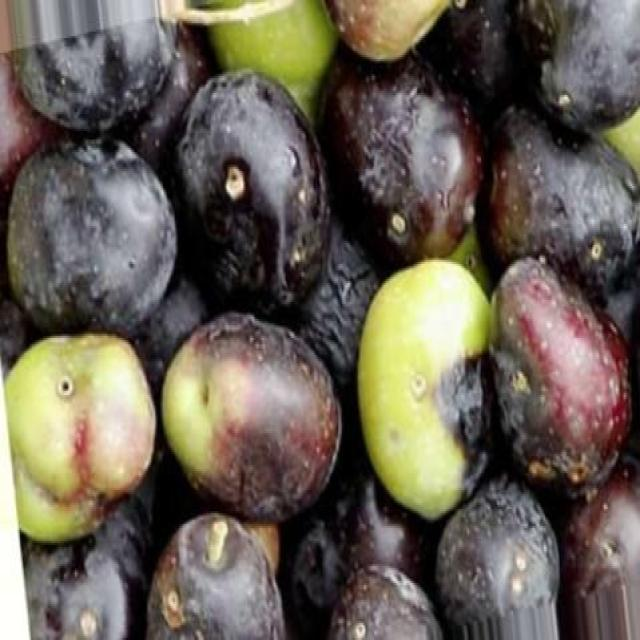Olive Fruit Fly: (175, 72, 329, 313), (162, 313, 341, 520), (357, 258, 490, 515), (492, 258, 631, 492), (323, 55, 481, 258), (5, 334, 155, 541), (147, 513, 286, 638)
